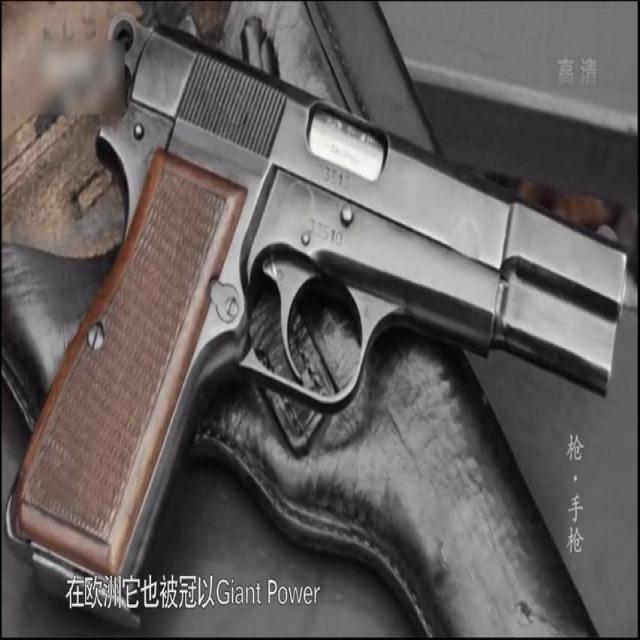rifle: (74, 12, 462, 270), (0, 207, 244, 616), (413, 174, 640, 406), (236, 248, 406, 414)
